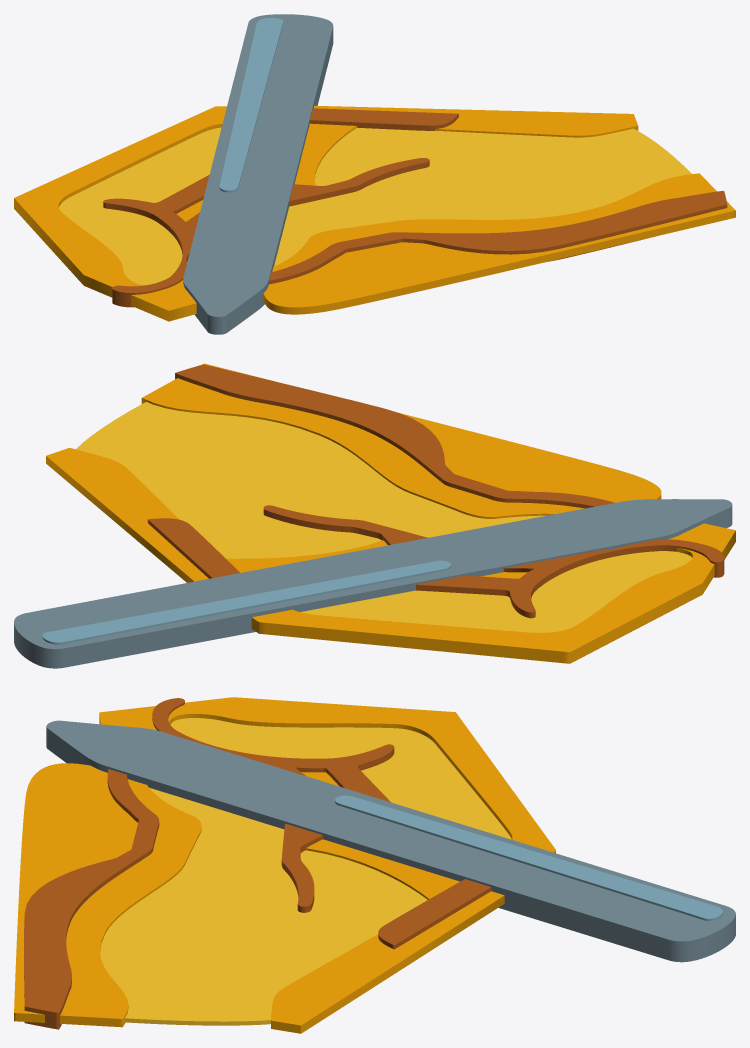
File: emoji_u270d.glb
3 renders of one model, top to bottom at view 1: azimuth 30°, elevation 25°; view 2: azimuth 150°, elevation 25°; view 3: azimuth 270°, elevation 25°, orthographic. The views are drawn at different scales.
Parts seen in each view (by area): view 1: emoji_u270d; view 2: emoji_u270d; view 3: emoji_u270d.
Part boxes in pixels (x1,y1,x2,y2): emoji_u270d: (14, 14, 735, 334); emoji_u270d: (14, 363, 735, 668); emoji_u270d: (14, 697, 735, 1033).
Size of the model in its own units: 0.0338 by 0.0012 by 0.0316.
